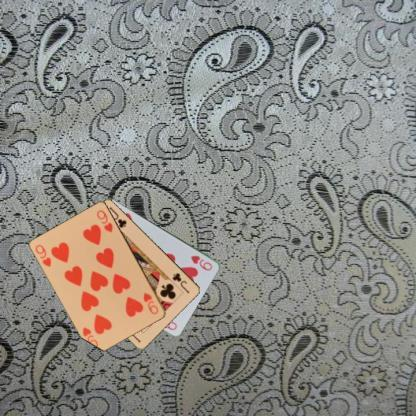9h: (188, 252, 214, 272), (140, 290, 160, 316), (33, 242, 53, 268)
Jc: (170, 270, 191, 295)
